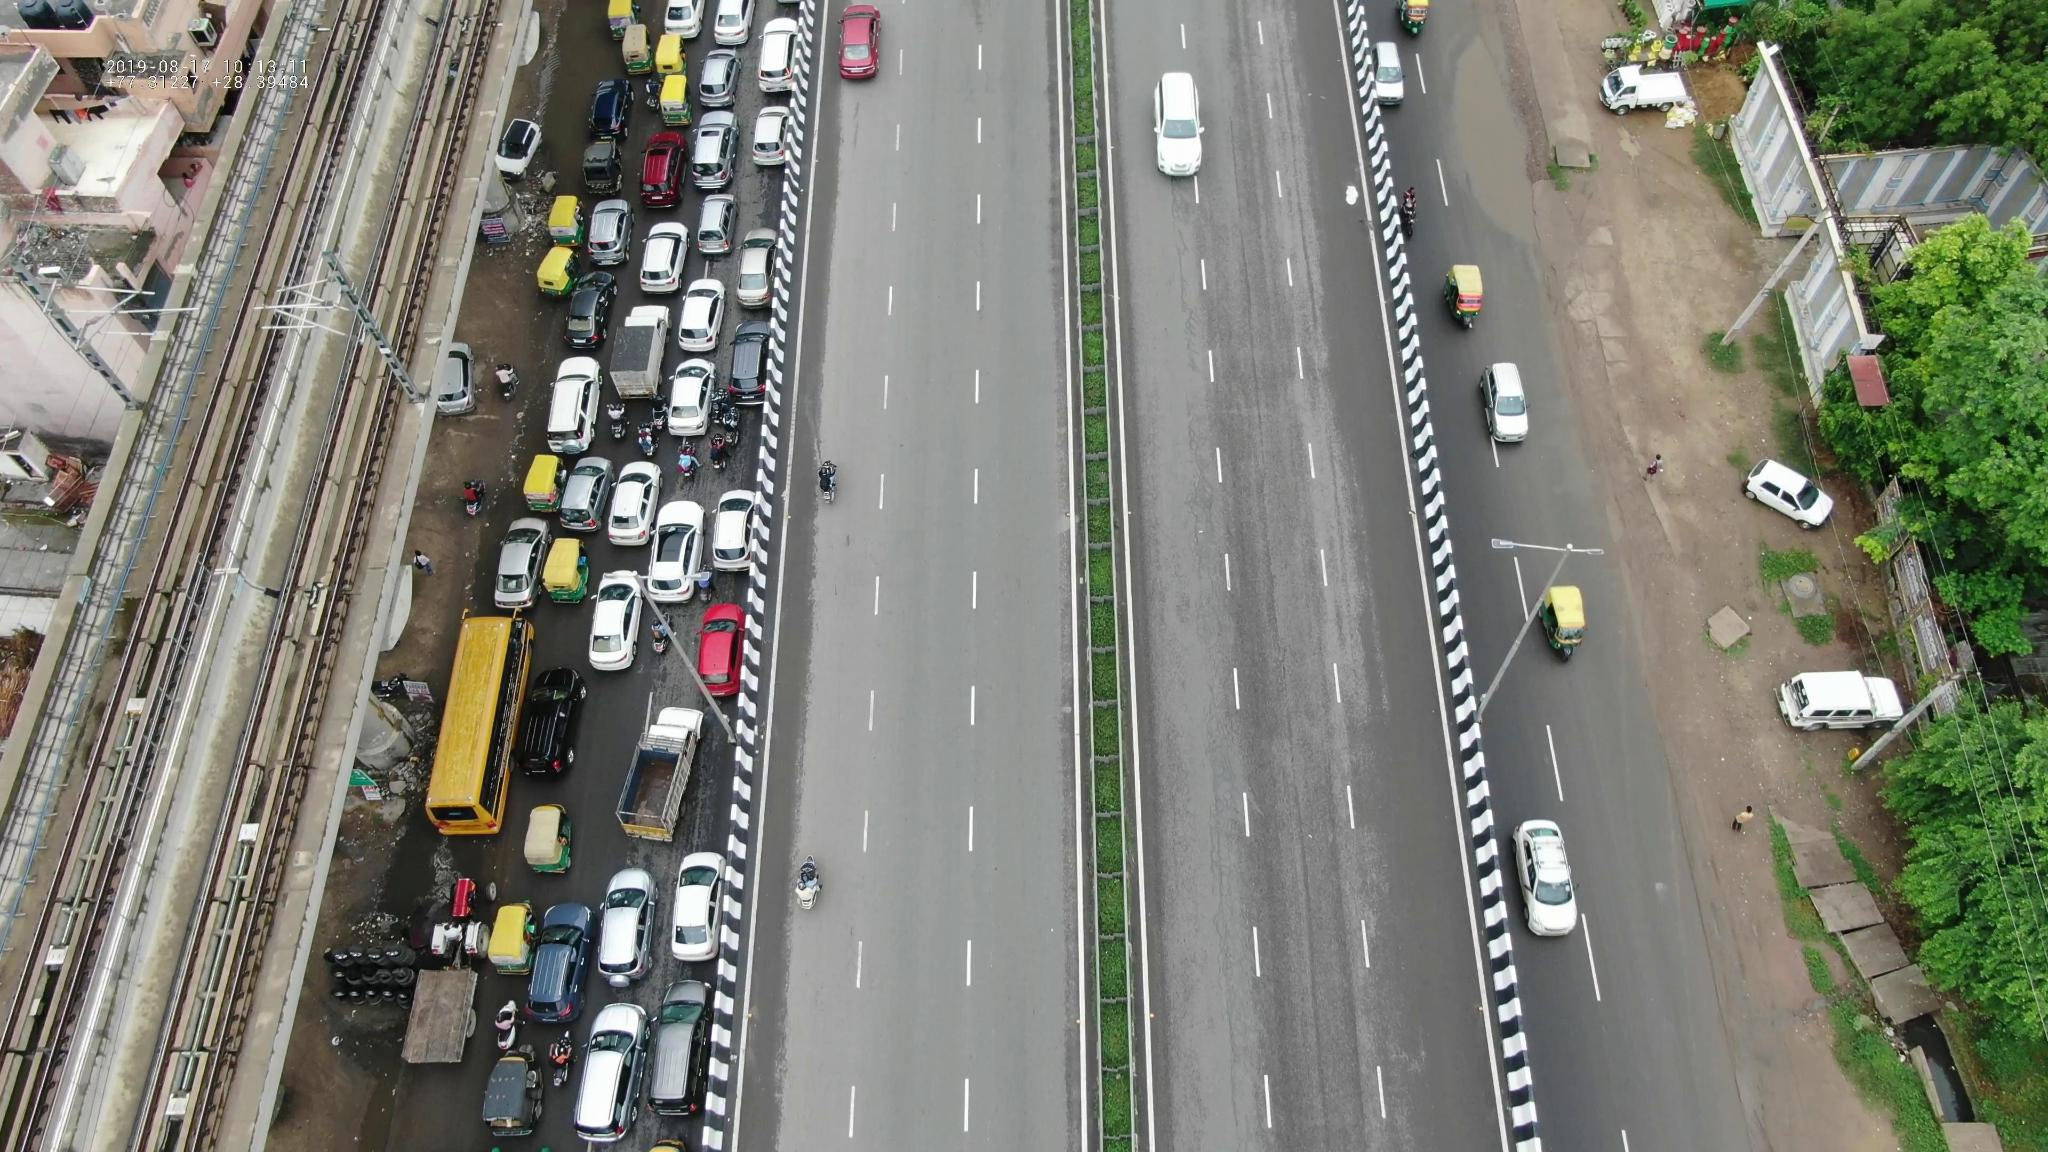Cracks: (1179, 432, 1255, 743), (1196, 776, 1265, 1108), (1162, 191, 1255, 409)
